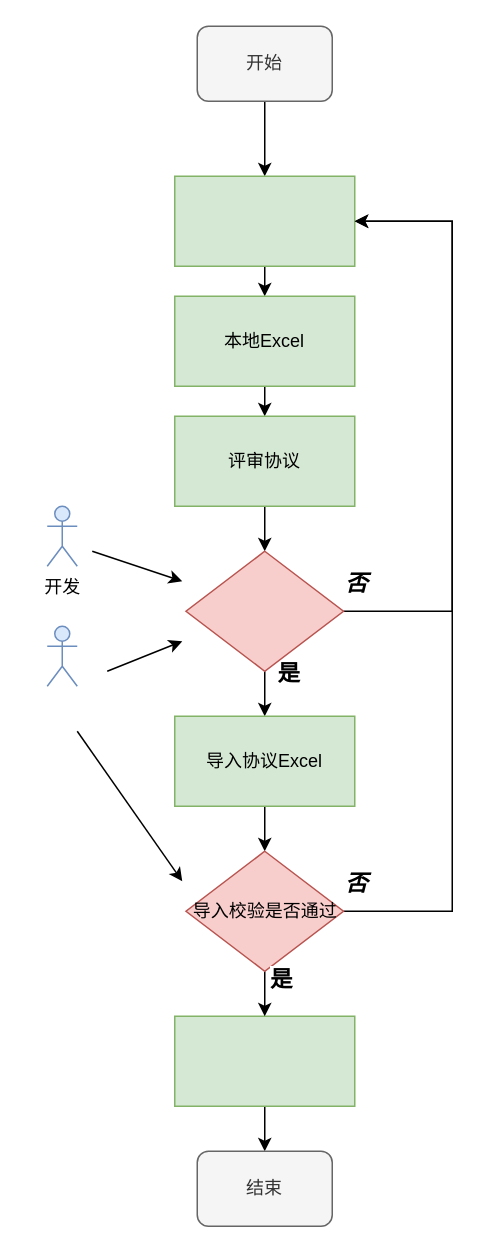
This 491x1253 diagram has some shape labels left out. Each missing label, with the box of its shape:
制定协议: (173, 175, 355, 266)
数据产品: (46, 625, 77, 686)
生成协议规则: (173, 1015, 355, 1106)
评审是否通过: (184, 550, 344, 671)
